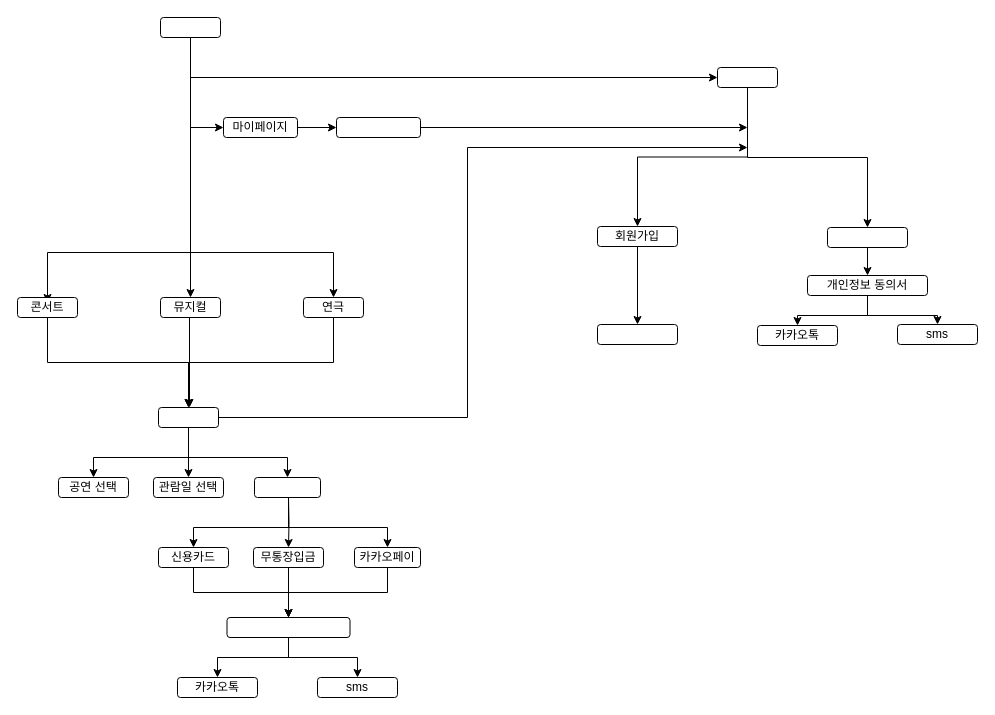
Image size: 995x715. Some labels were removed from this diagram. Each missing label, with the box of its shape:
home: (160, 16, 220, 38)
ID/PW 찾기: (826, 226, 908, 248)
login: (716, 66, 778, 88)
결제: (254, 476, 320, 498)
약관동의: (596, 324, 678, 344)
예매: (158, 406, 218, 428)
예매 내역: (226, 616, 350, 638)
예매내역확인: (336, 116, 420, 138)
